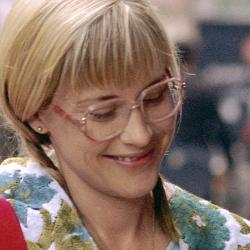face: (2, 3, 191, 198)
